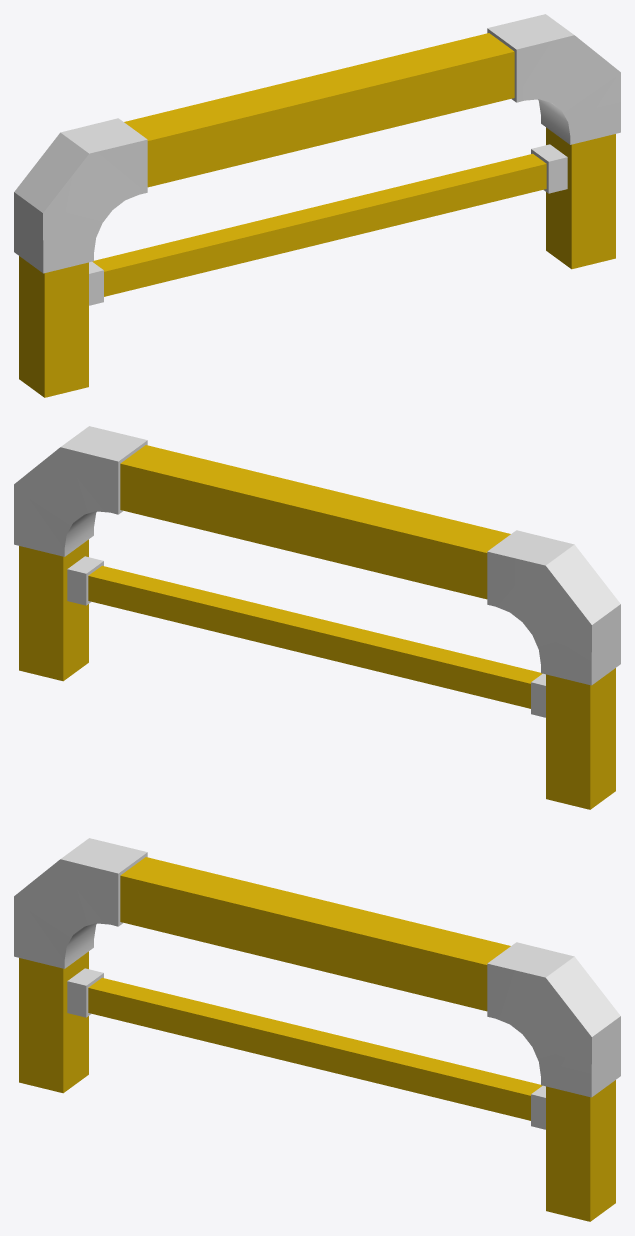
Rendered from Siderailing2.fbx.
3 renders of one model, top to bottom at view 1: azimuth 30°, elevation 25°; view 2: azimuth 150°, elevation 25°; view 3: azimuth 330°, elevation 25°, orthographic.
Visible parts, largest first — view 1: Cube.024, Cube.022; view 2: Cube.024, Cube.022; view 3: Cube.024, Cube.022.
Boxes of the visible parts, x1=… form: Cube.024: x1=19, y1=33, x2=615, y2=397; Cube.022: x1=14, y1=14, x2=620, y2=305; Cube.024: x1=19, y1=445, x2=615, y2=809; Cube.022: x1=14, y1=426, x2=620, y2=717; Cube.024: x1=19, y1=857, x2=615, y2=1221; Cube.022: x1=14, y1=838, x2=620, y2=1129.
Bounding box in the file's own units: 1.96 × 0.7611 × 0.1732.
